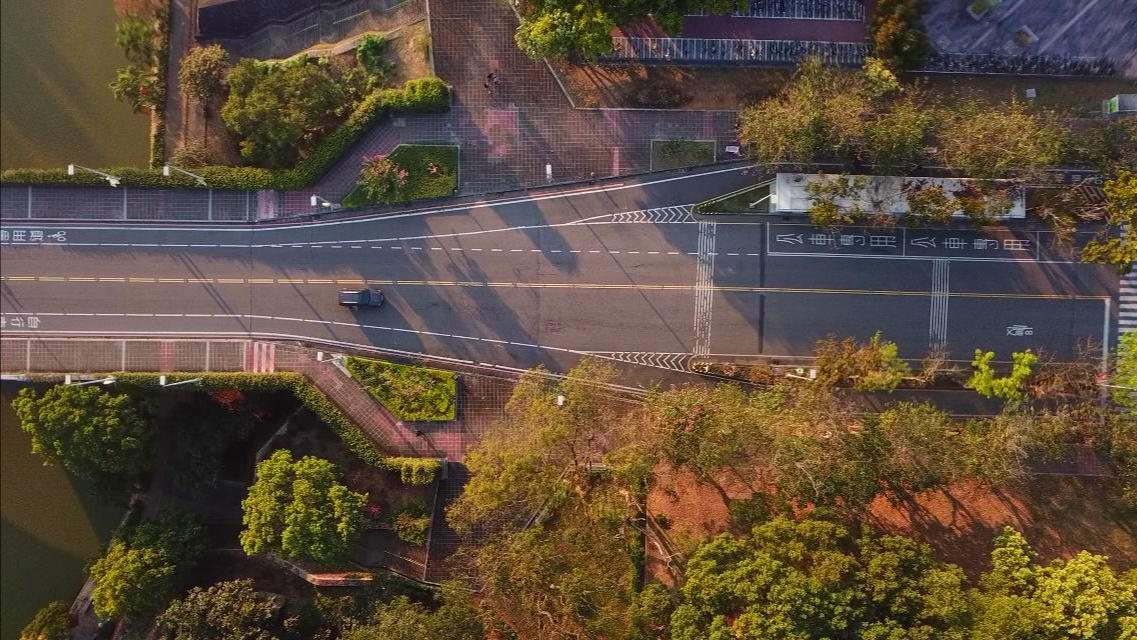vehicle: (338, 288, 384, 309)
